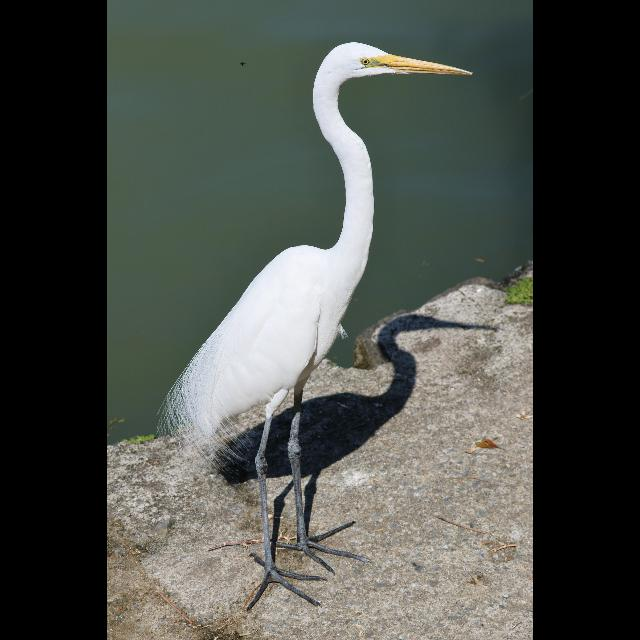egret: (138, 40, 478, 626)
